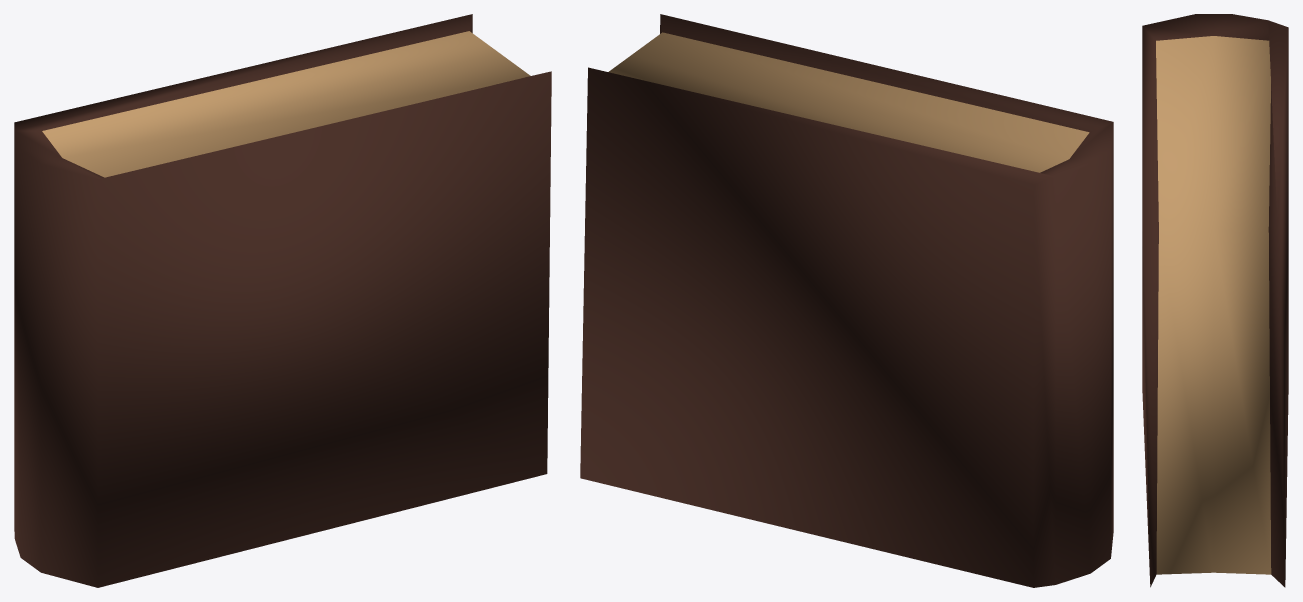
The model's file is book005.fbx.
3 renders of one model, left to right at view 1: azimuth 30°, elevation 25°; view 2: azimuth 150°, elevation 25°; view 3: azimuth 270°, elevation 25°, orthographic. The views are drawn at different scales.
Parts seen in each view (by area): view 1: Book Variation 005; view 2: Book Variation 005; view 3: Book Variation 005.
Boxes of the visible parts, x1,y1,x2,y2 form: Book Variation 005: (14, 14, 551, 587); Book Variation 005: (580, 14, 1113, 587); Book Variation 005: (1142, 14, 1288, 587).
Bounding box in the file's own units: 0.4438 × 0.3604 × 0.131.
